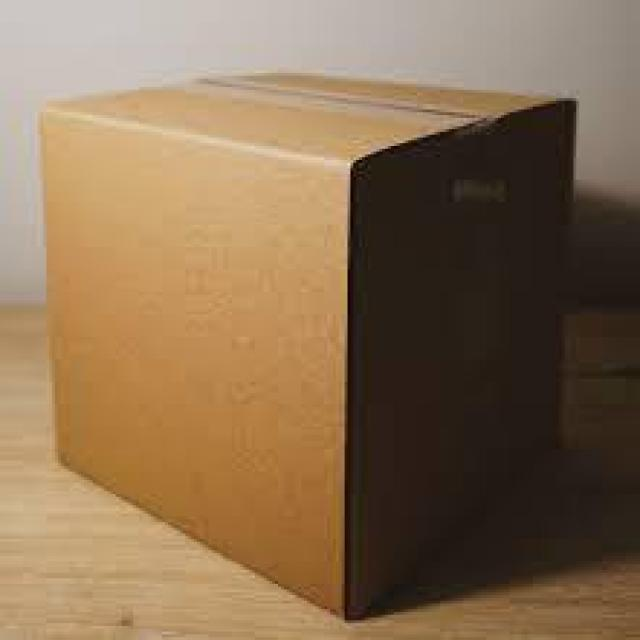box: (42, 60, 574, 618)
